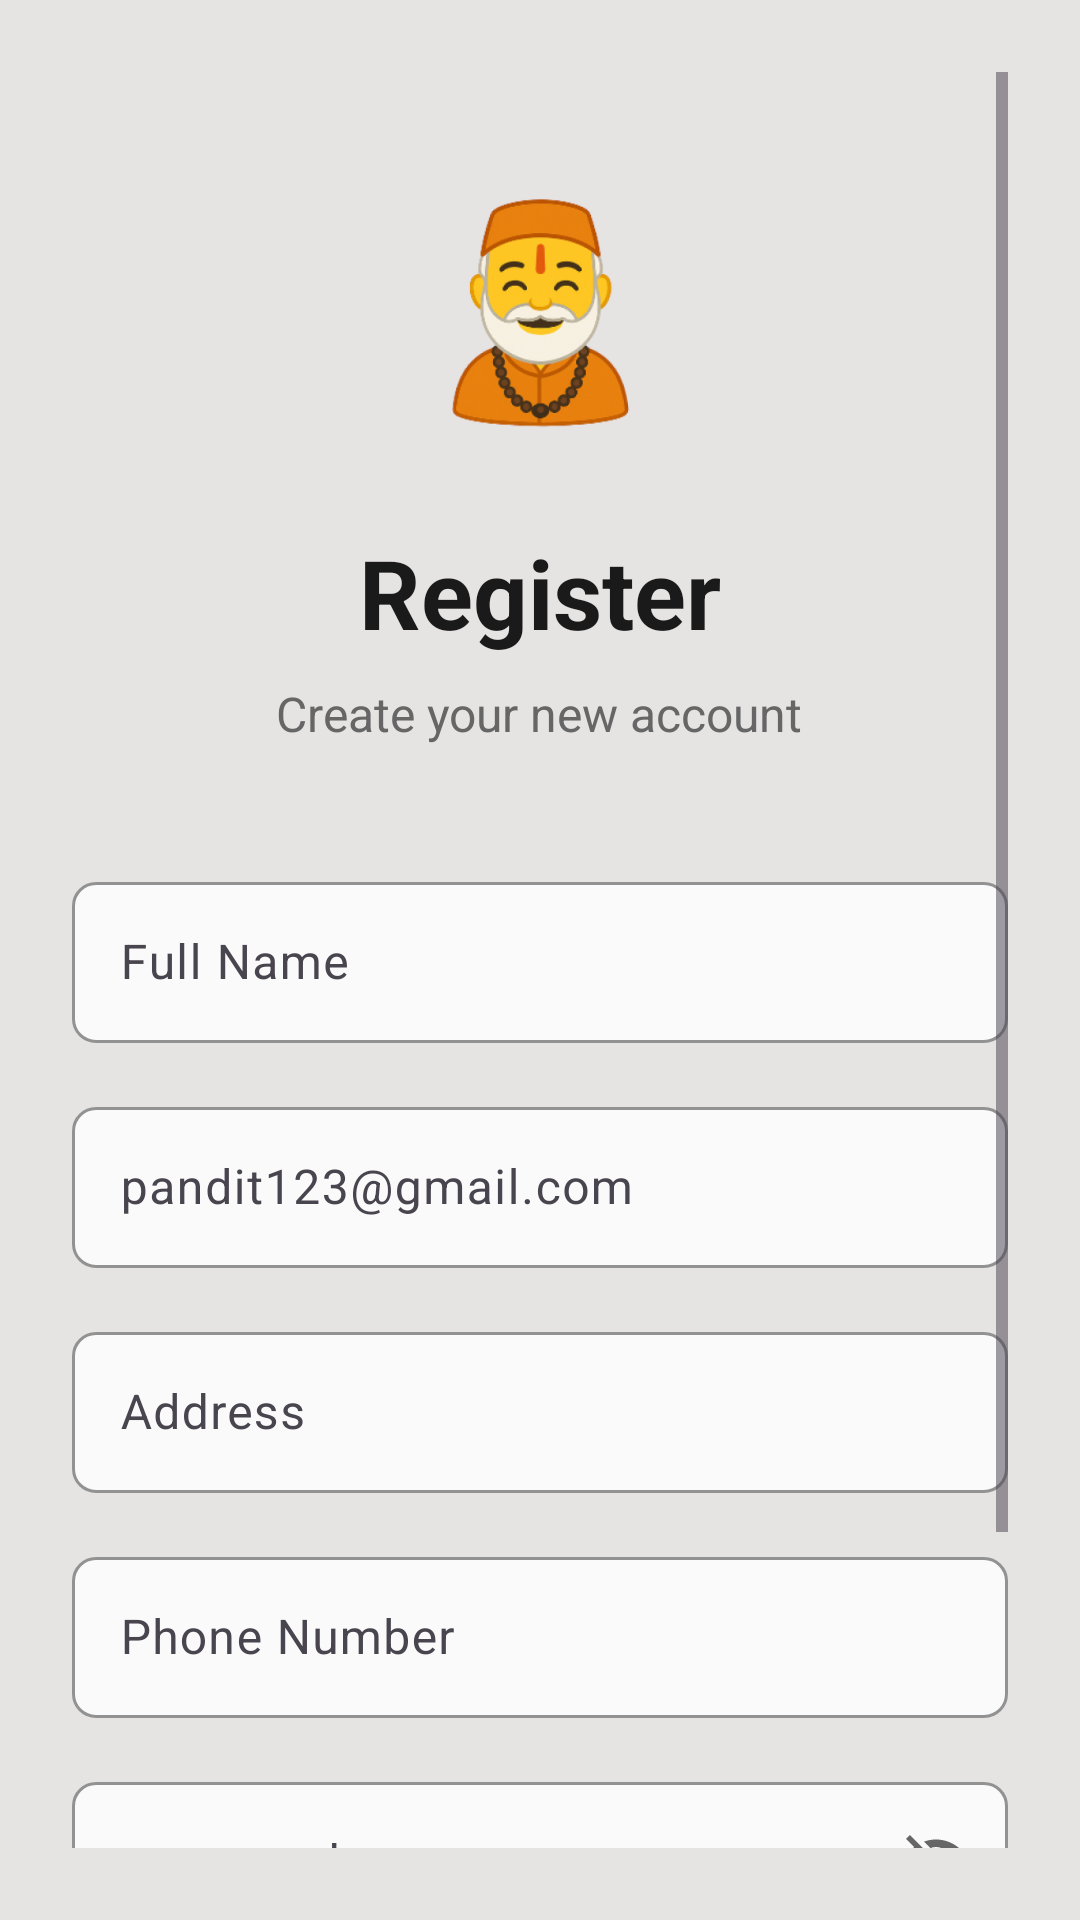

Where to tap for icons on this 1080 x 1920 app screen, as (x,y):
pandit: (540,313)
